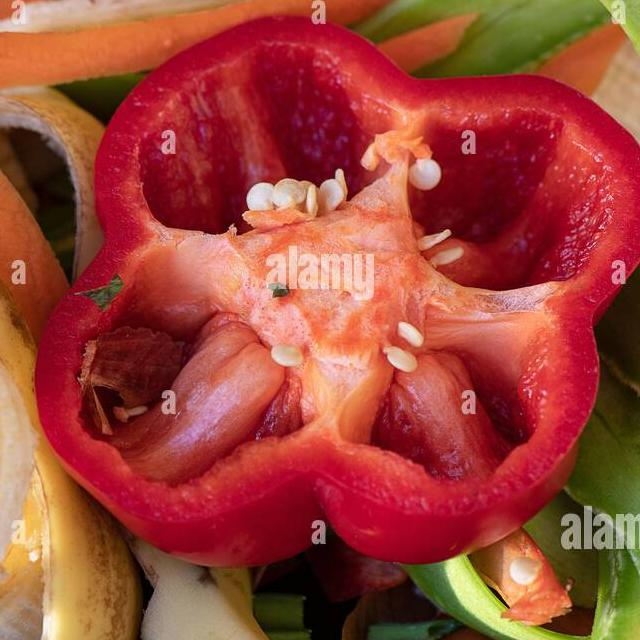food_waste: (13, 34, 640, 534), (413, 0, 640, 586), (0, 155, 141, 640), (368, 537, 640, 640), (135, 537, 324, 640)
